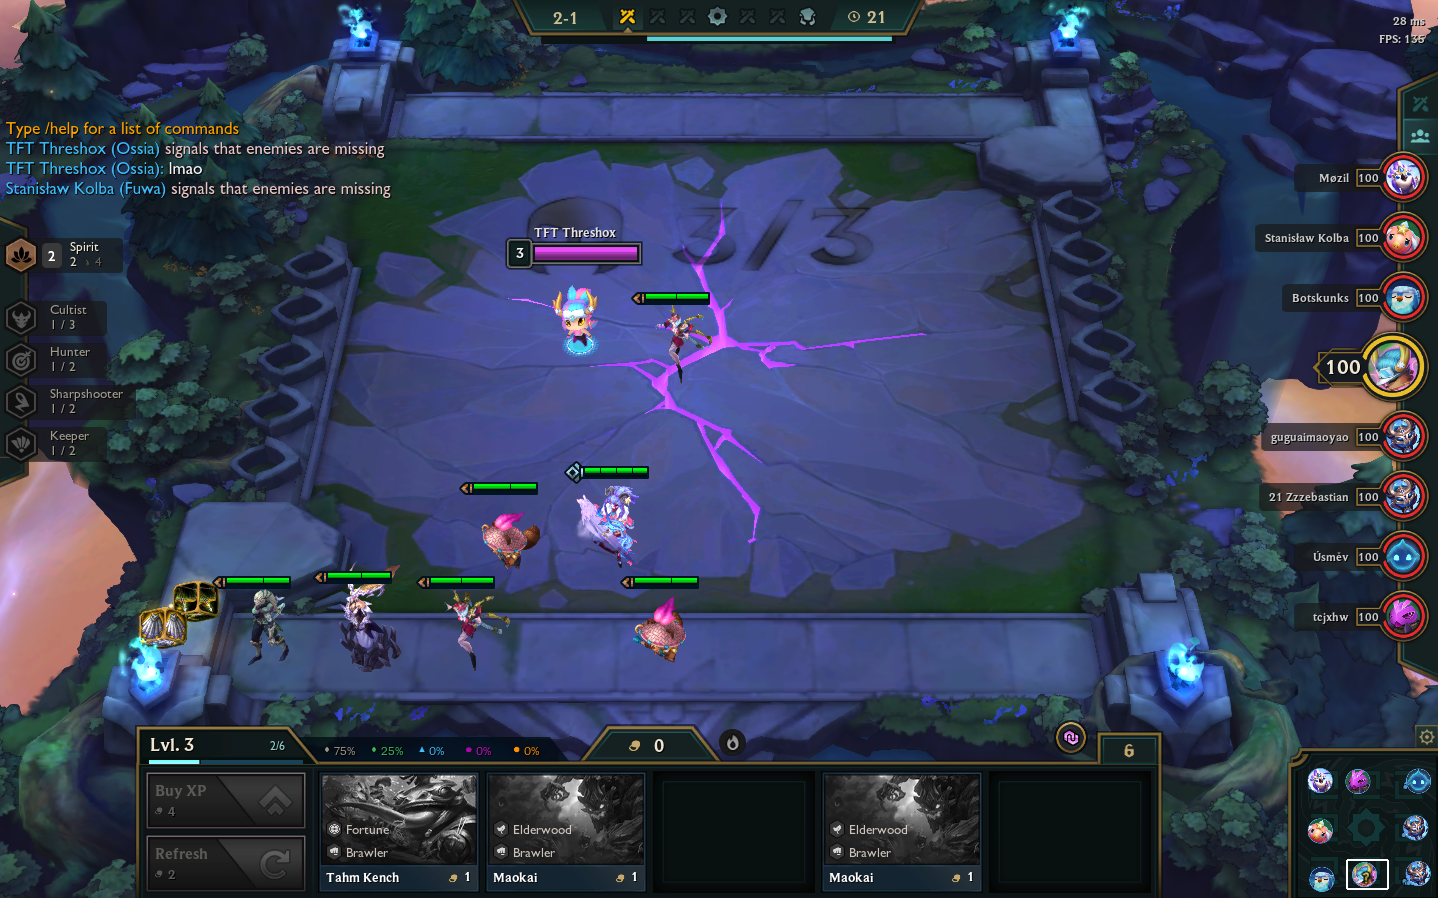1star_diana: (212, 563, 306, 672)
1star_elise: (415, 563, 521, 686), (619, 285, 721, 386)
1star_lissandra: (308, 553, 414, 677)
1star_teemo: (452, 473, 555, 574), (610, 570, 712, 671)
2star_kindred: (561, 459, 657, 573)
trait_cultist1: (1, 291, 128, 341)
trait_hunter1: (1, 335, 131, 380)
trait_keeper2: (1, 420, 145, 469)
trait_sharpshooter2: (1, 376, 145, 425)
trait_spirit2: (1, 229, 134, 280)
